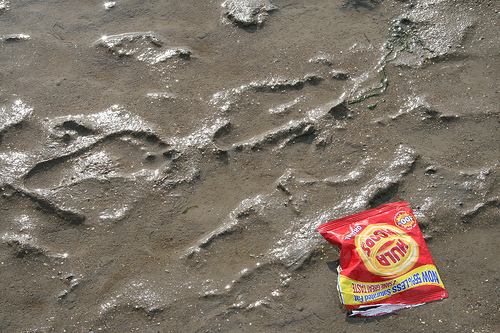litter: (315, 202, 449, 319)
